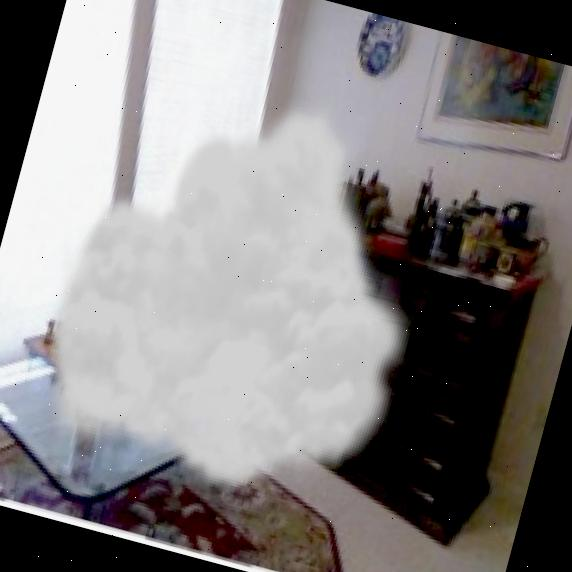smoke: (13, 44, 470, 530)
